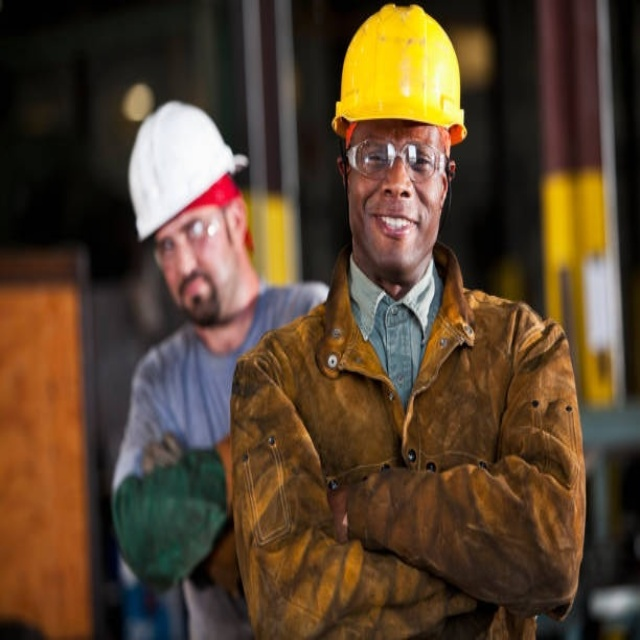Gafas: (346, 135, 445, 184), (152, 205, 225, 268)
Sin_mascara: (367, 199, 424, 258), (178, 267, 212, 315)
